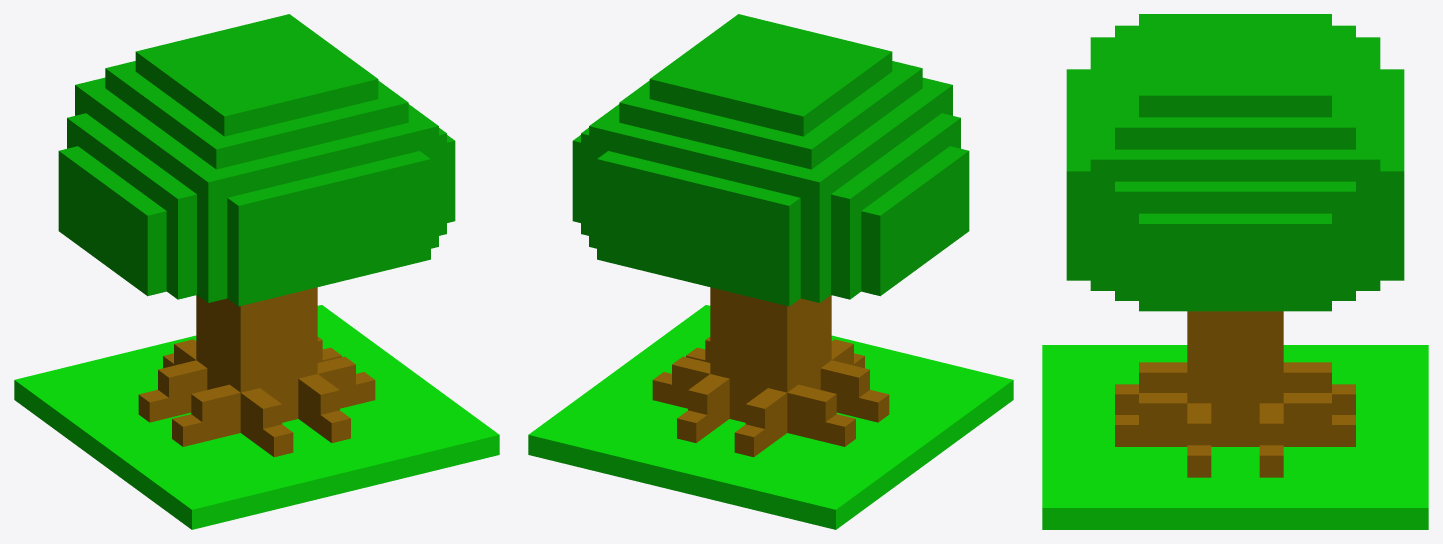
File: decoration_01.fbx
3 renders of one model, left to right at view 1: azimuth 30°, elevation 25°; view 2: azimuth 150°, elevation 25°; view 3: azimuth 270°, elevation 25°, orthographic. The views are drawn at different scales.
Visible parts, largest first — view 1: decoration_01; view 2: decoration_01; view 3: decoration_01.
Part boxes in pixels (bbox=[...]): decoration_01: bbox=[14, 14, 499, 529]; decoration_01: bbox=[528, 14, 1013, 529]; decoration_01: bbox=[1042, 14, 1428, 529].
Bounding box in the file's own units: 160 × 180 × 160.
1 material, 1 textured.
